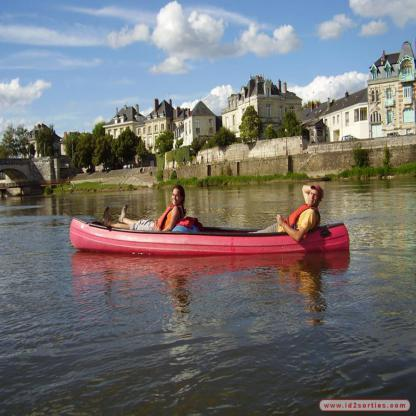face: (309, 190, 319, 207), (173, 188, 182, 206)
